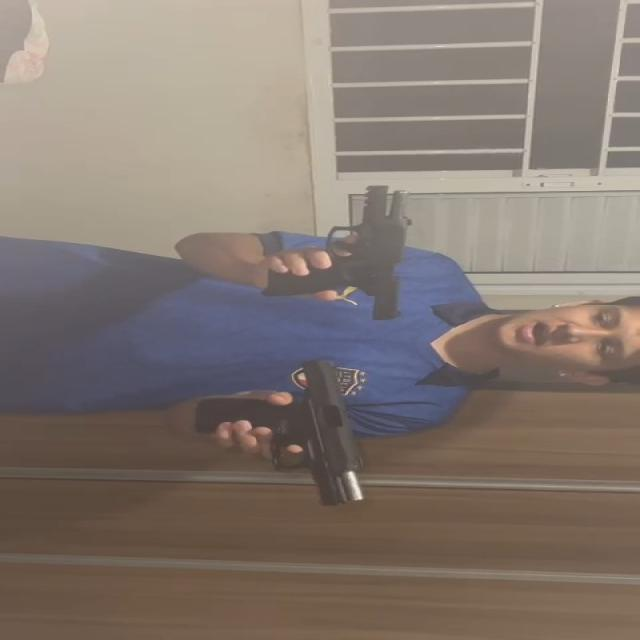gun: (196, 358, 372, 508), (260, 182, 412, 317)
